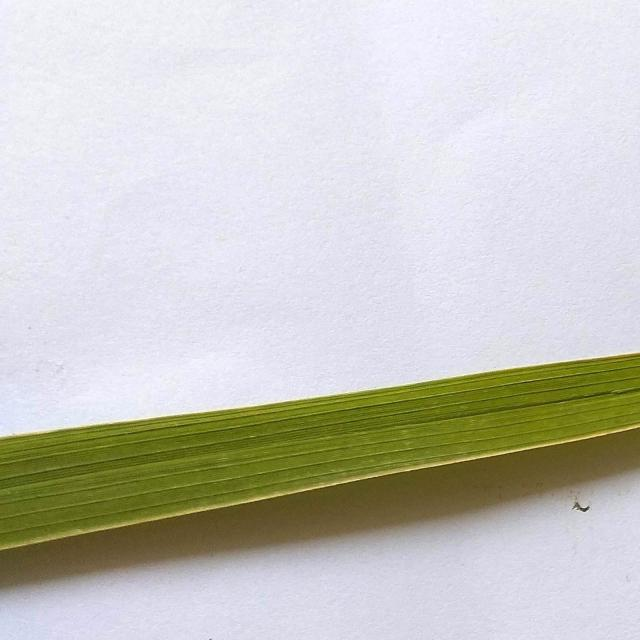healthy: (0, 326, 640, 580)
